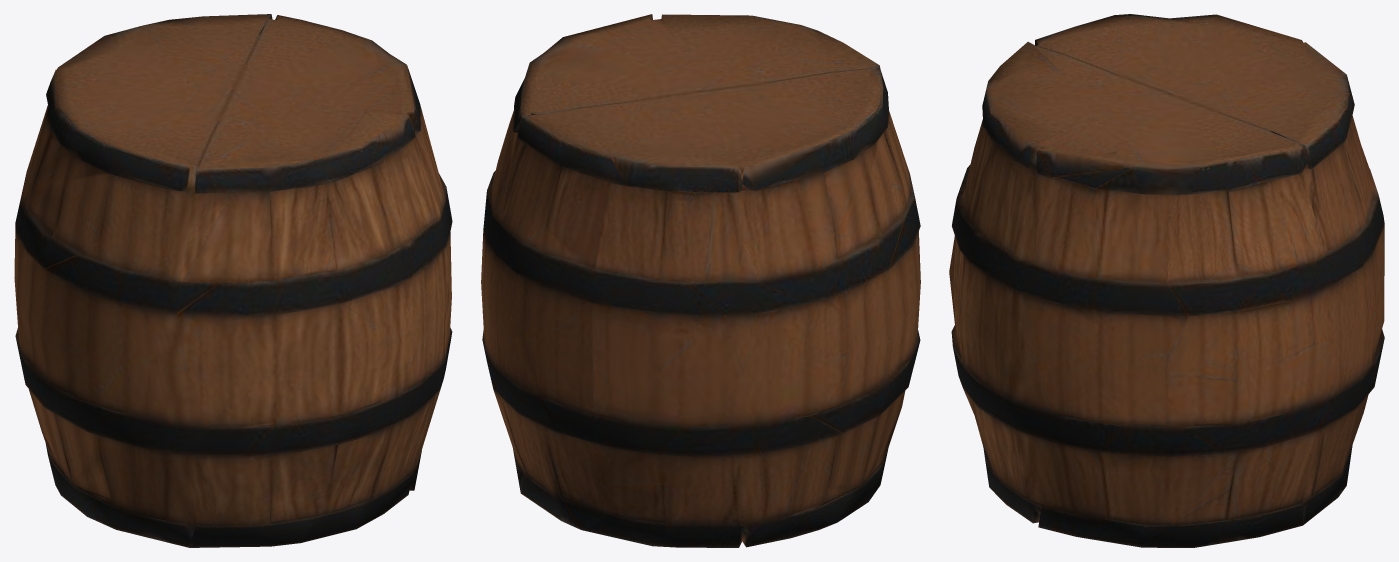
Rendered from barrel.glb.
3 renders of one model, left to right at view 1: azimuth 30°, elevation 25°; view 2: azimuth 150°, elevation 25°; view 3: azimuth 270°, elevation 25°, orthographic.
Visible parts, largest first — view 1: barrel; view 2: barrel; view 3: barrel.
Part boxes in pixels (box(x1,y1,x2,y2)): barrel: box(14, 14, 452, 547); barrel: box(481, 14, 920, 547); barrel: box(949, 14, 1384, 547).
Bounding box in the file's own units: 0.875 × 0.85 × 0.8778.
Materials: 1 (1 with a texture image).
